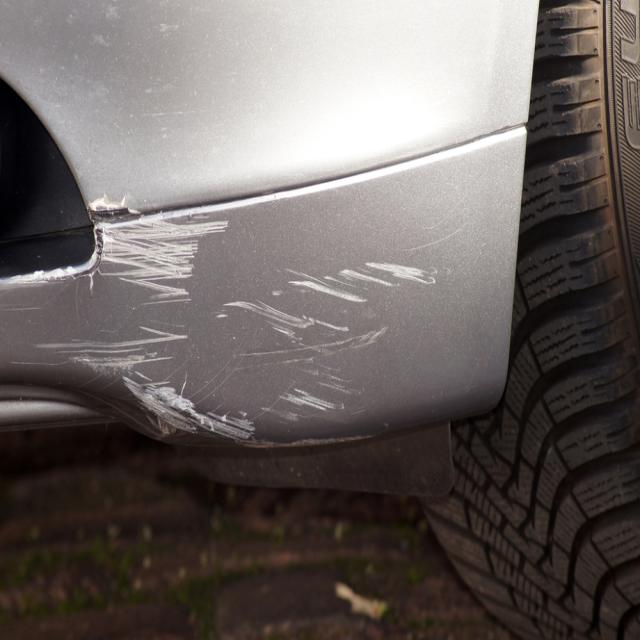scratch: (15, 209, 443, 450)
